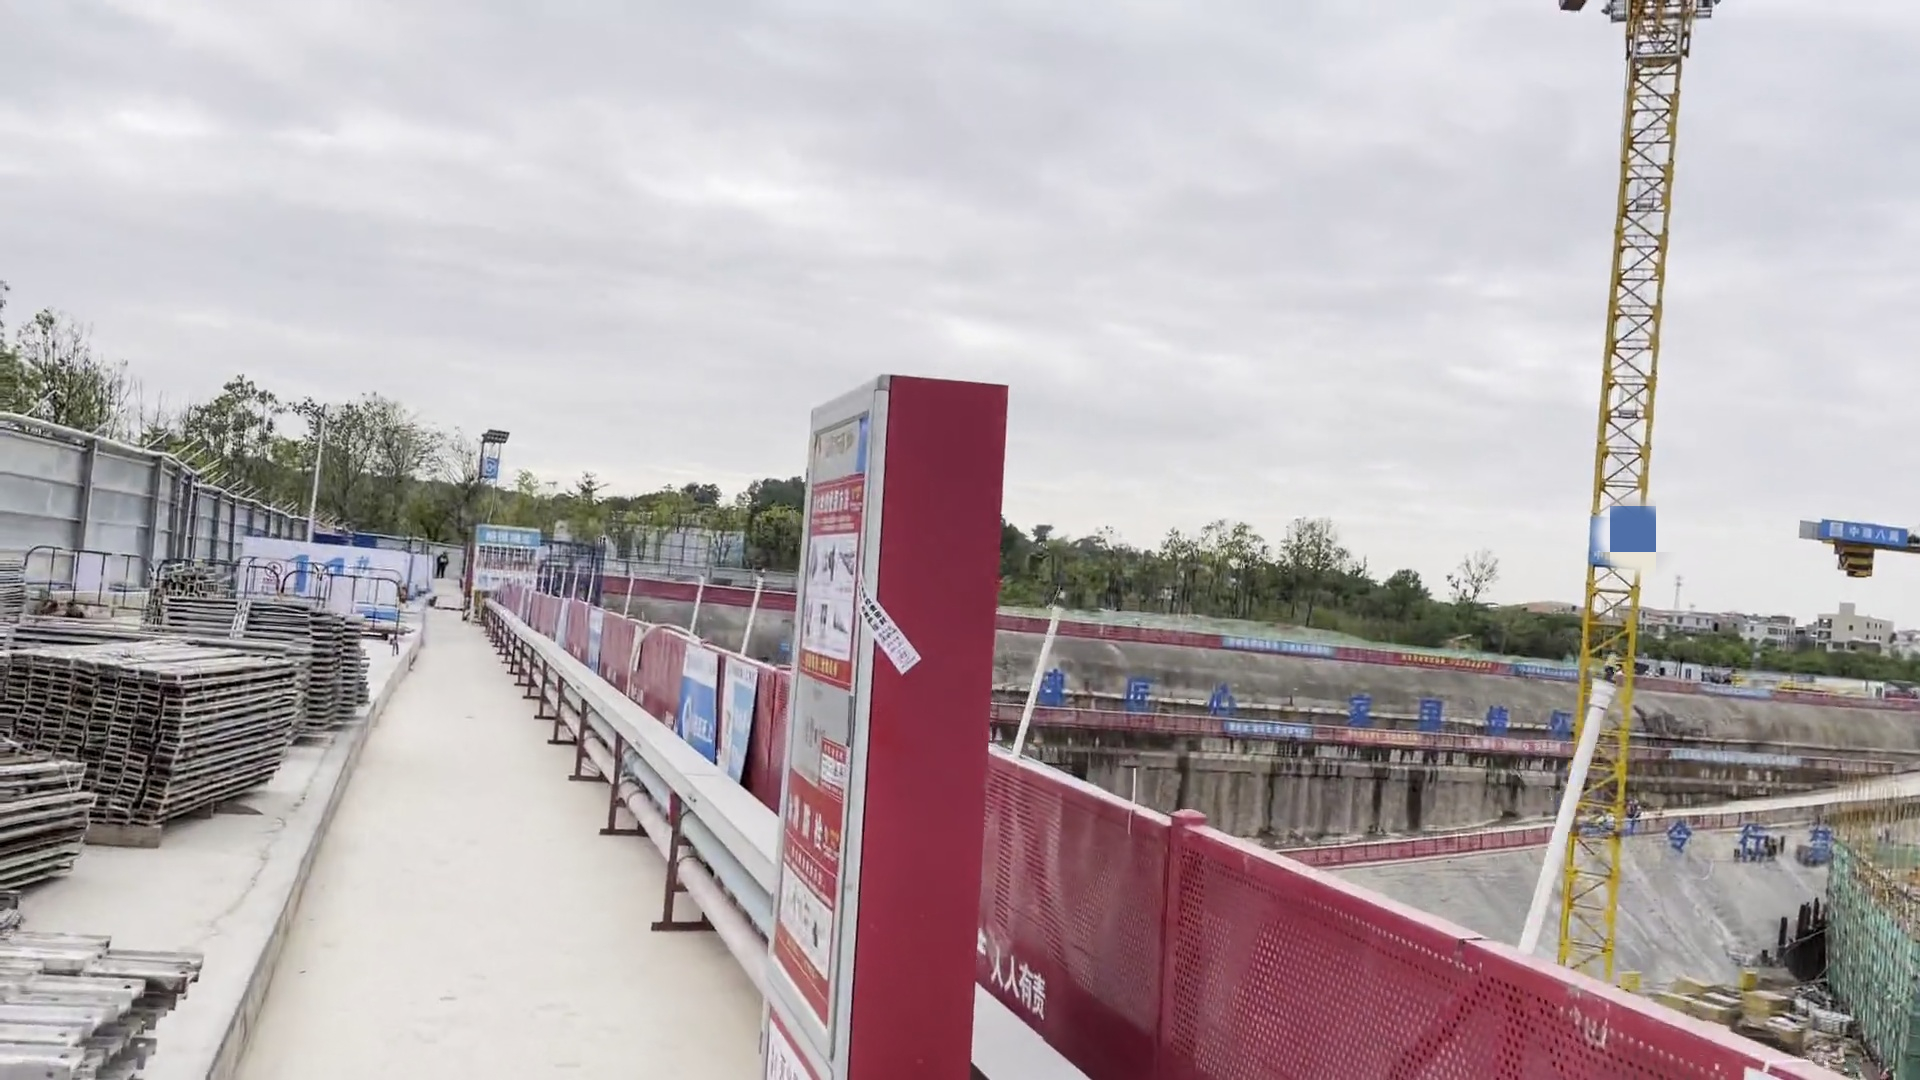board: (1652, 974, 1741, 1025), (1738, 986, 1792, 1020)
fence: (1233, 846, 1767, 1080), (977, 746, 1240, 1080), (25, 543, 408, 631), (673, 646, 791, 830), (542, 603, 683, 732)
helmet: (440, 548, 449, 554)
person: (429, 545, 455, 581)
scaffold: (1809, 1008, 1859, 1038)
slogan: (776, 434, 865, 904), (654, 639, 763, 784), (1577, 497, 1681, 576), (577, 600, 623, 696), (1385, 649, 1515, 680), (1811, 520, 1920, 557), (1457, 730, 1571, 765), (1213, 635, 1335, 665), (468, 518, 554, 559), (465, 565, 549, 605), (1333, 724, 1423, 755), (1211, 719, 1308, 746), (1508, 657, 1576, 689), (473, 454, 504, 489)
vest: (438, 555, 449, 566)
